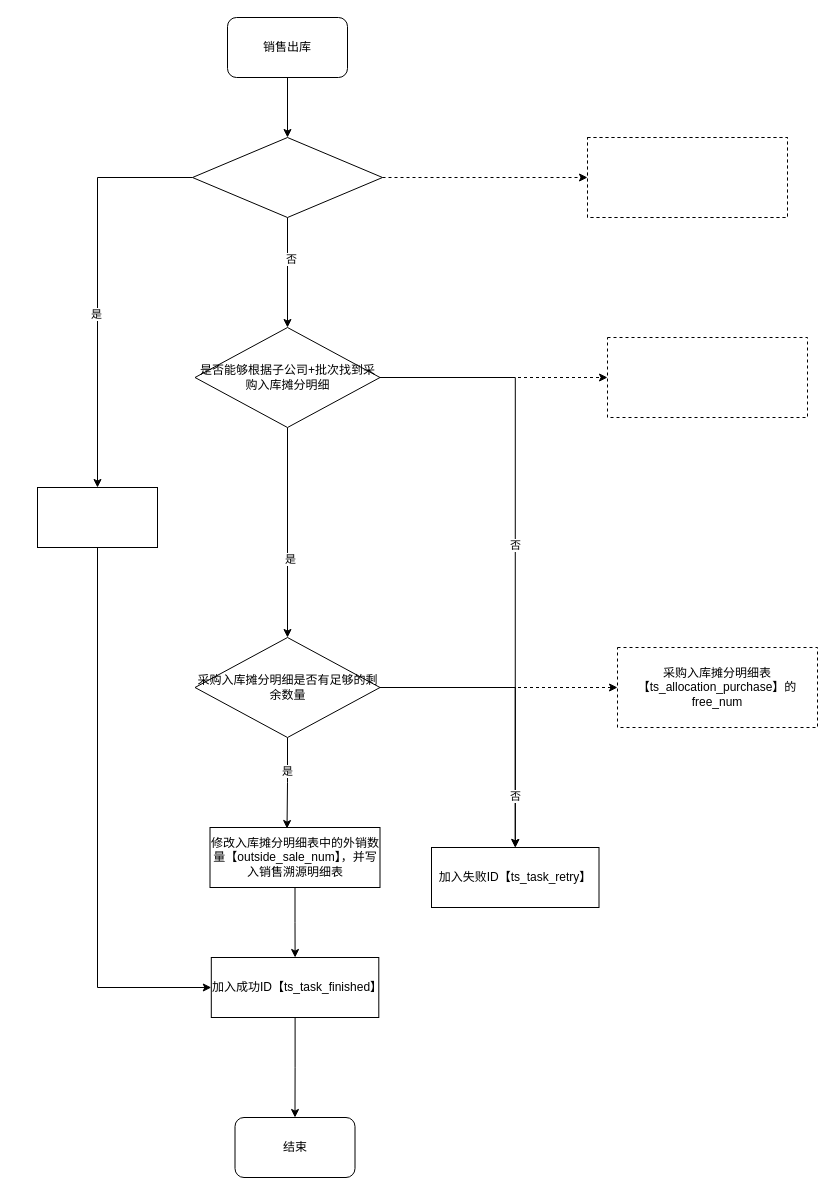
Some shapes in this 835 by 1195 pixel diagram are drawn without their labels. The shapes that lost their labels are listed below. From the top down, each one's box as (x1, y1, x2, y2) in pixels, then its label:
(192, 136, 382, 218): 是否是历史溯源批次
(586, 136, 788, 218): 通过历史顺冲批次表【ts_history_batch_no】判断【通过ysbProviderId+batchNo锁定】
(606, 336, 808, 418): 采购入库摊分明细表【ts_allocation_purchase】上游供应商采购和子公司采购入库都会新增一条记录，如果是溯源批次且没有这个记录的话，就是有问题
(36, 486, 158, 548): 记录到销售非溯源明细表【ts_history_batch_no_sale】
